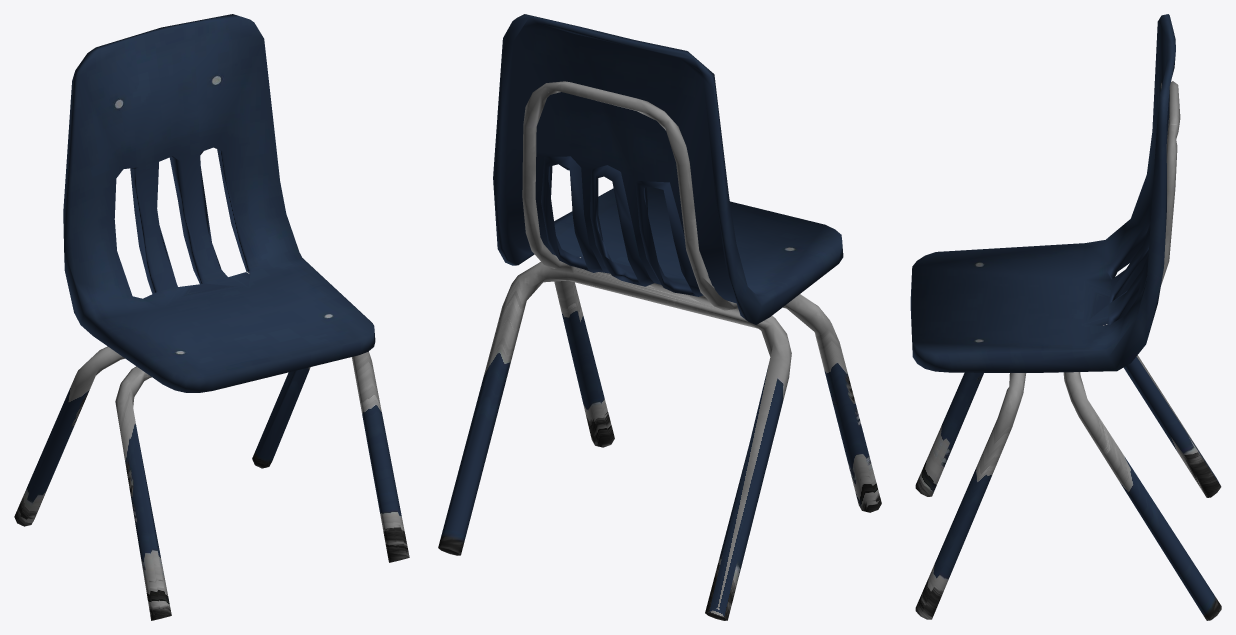
File: SchoolChair_01_lod2.glb
3 views of the same model, side by side, from view 1: azimuth 30°, elevation 25°; view 2: azimuth 150°, elevation 25°; view 3: azimuth 270°, elevation 25° (orthographic). The views are drawn at different scales.
Visible parts, largest first — view 1: SchoolChair_01; view 2: SchoolChair_01; view 3: SchoolChair_01.
Boxes of the visible parts, left/top/right/bottom form: SchoolChair_01: left=14, top=14, right=409, bottom=620; SchoolChair_01: left=438, top=14, right=881, bottom=620; SchoolChair_01: left=910, top=14, right=1221, bottom=620.
Bounding box in the file's own units: 0.5 × 0.8982 × 0.4983.
Materials: 1 (1 with a texture image).
